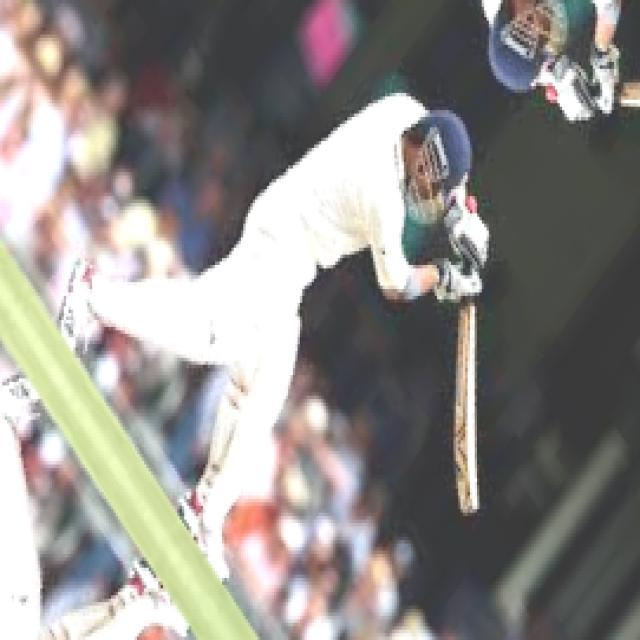bat: (449, 304, 497, 519)
toe: (460, 484, 486, 518)
